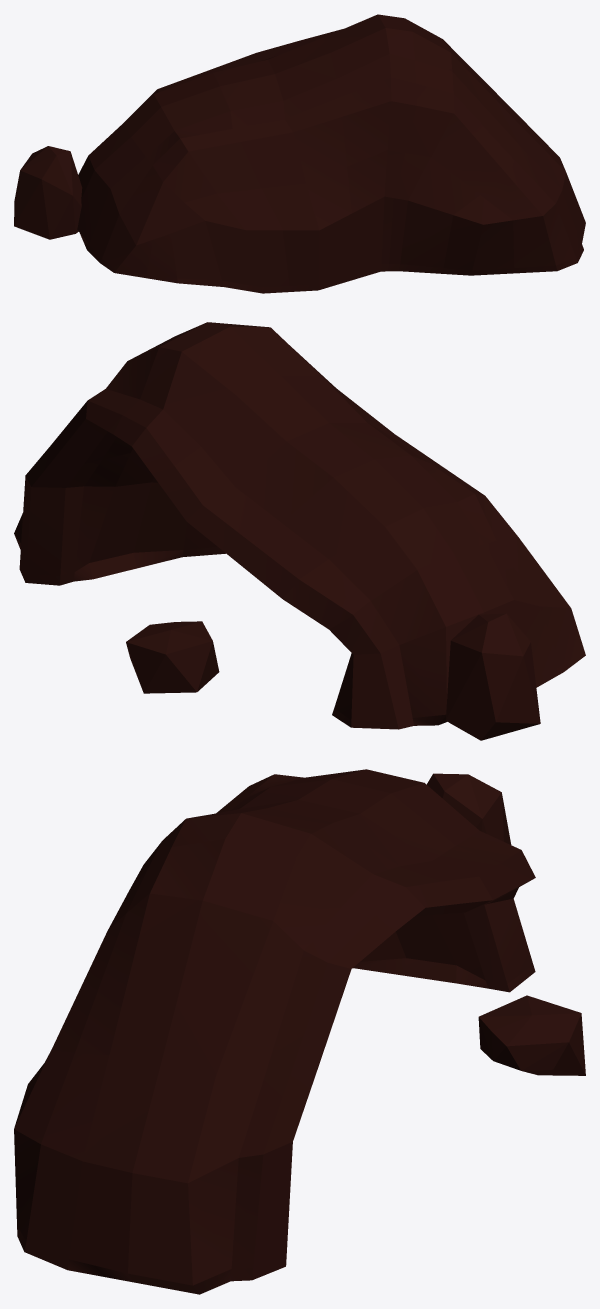
The model's file is Shelter.obj.
The picture shows the model from 3 angles, top to bottom: view 1: azimuth 30°, elevation 25°; view 2: azimuth 150°, elevation 25°; view 3: azimuth 270°, elevation 25°; orthographic projection. The views are drawn at different scales.
Visible parts, largest first — view 1: Shelter; view 2: Shelter; view 3: Shelter.
Boxes of the visible parts, bbox=[...] form: Shelter: bbox=[14, 14, 585, 293]; Shelter: bbox=[14, 322, 585, 740]; Shelter: bbox=[14, 769, 585, 1294].
Size of the model in its own units: 47.88 by 20.88 by 31.02.
